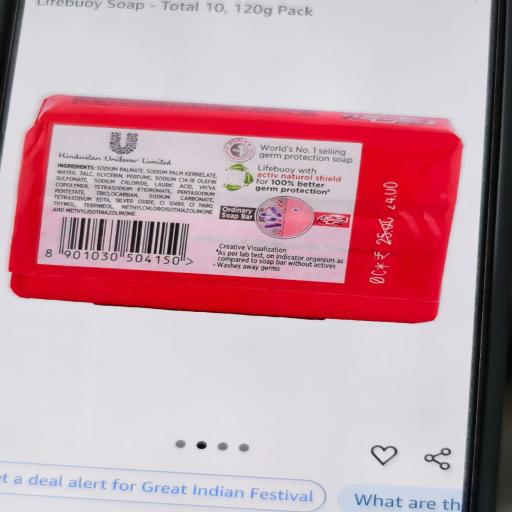lifebuoy: (9, 96, 461, 323)
